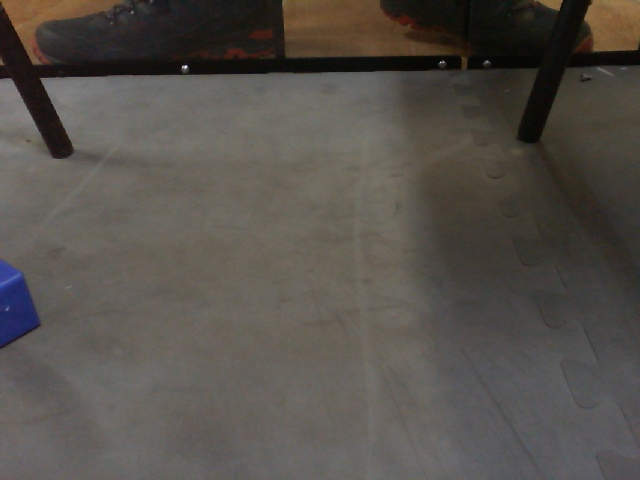BlueSample: (1, 249, 42, 355)
